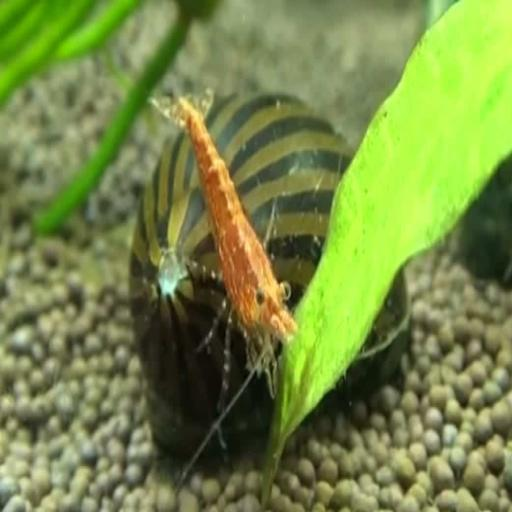Shrimp: (147, 81, 316, 388)
Snail: (125, 91, 437, 465)
